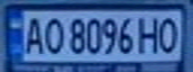0: (84, 15, 103, 55)
6: (115, 15, 139, 55)
8: (63, 15, 87, 54)
9: (100, 16, 121, 55)
A: (21, 13, 48, 55)
H: (136, 13, 163, 55)
O: (39, 15, 66, 55), (157, 14, 181, 54)
